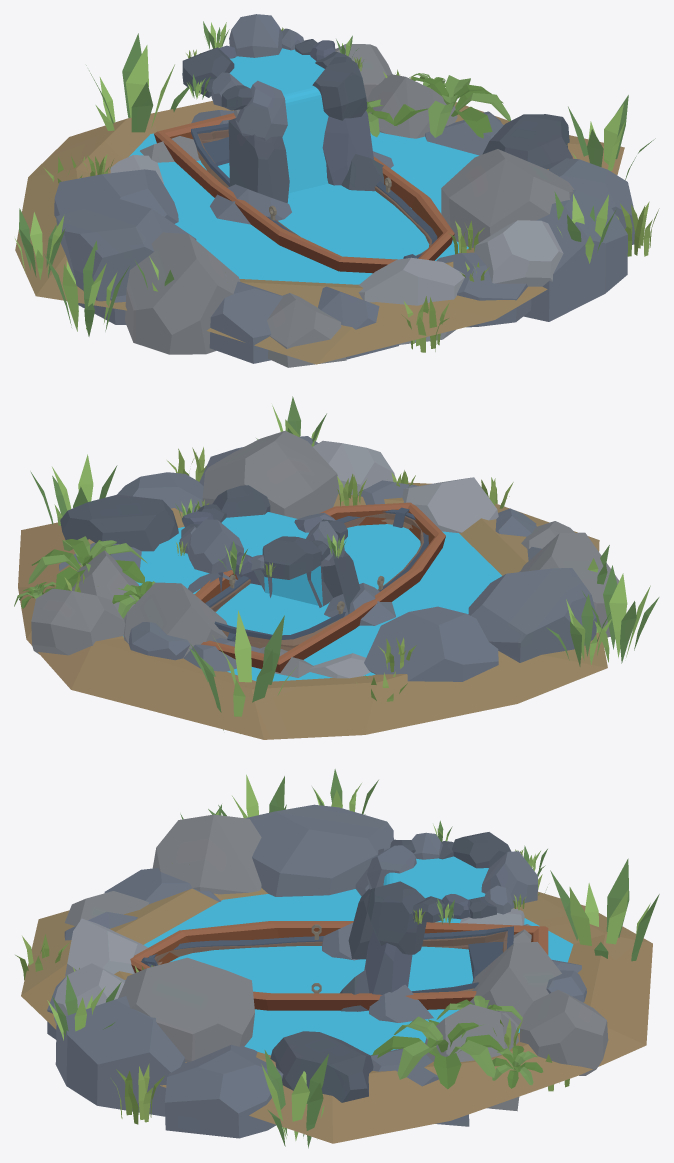
The model's file is lake.glb.
3 renders of one model, top to bottom at view 1: azimuth 30°, elevation 25°; view 2: azimuth 150°, elevation 25°; view 3: azimuth 270°, elevation 25°, orthographic. The views are drawn at different scales.
Parts seen in each view (by area): view 1: Pond_01, Pond_02, Waterfall_01, Wood_Boat_01, SM_Veh_Boat_Rowing_01_Hull; view 2: Pond_01, Pond_02, Waterfall_01, Wood_Boat_01, SM_Veh_Boat_Rowing_01_Hull; view 3: Pond_01, Pond_02, Waterfall_01, Wood_Boat_01, SM_Veh_Boat_Rowing_01_Hull.
Boxes of the visible parts, <box> form: Pond_01: <box>15,43,624,364</box>; Pond_02: <box>43,33,659,367</box>; Waterfall_01: <box>182,14,393,224</box>; Wood_Boat_01: <box>154,113,454,273</box>; SM_Veh_Boat_Rowing_01_Hull: <box>191,123,437,258</box>; Pond_01: <box>14,396,612,739</box>; Pond_02: <box>30,436,659,730</box>; Waterfall_01: <box>175,485,395,625</box>; Wood_Boat_01: <box>194,502,445,672</box>; SM_Veh_Boat_Rowing_01_Hull: <box>205,507,428,650</box>; Pond_01: <box>21,769,652,1143</box>; Pond_02: <box>15,774,659,1148</box>; Waterfall_01: <box>322,820,547,1022</box>; Wood_Boat_01: <box>130,921,548,1010</box>; SM_Veh_Boat_Rowing_01_Hull: <box>141,924,513,993</box>.
Size of the model in its own units: 5.5 by 1.53 by 4.89.
Materials: 2 (2 with a texture image).
